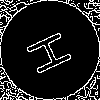H: (25, 25, 82, 78)
